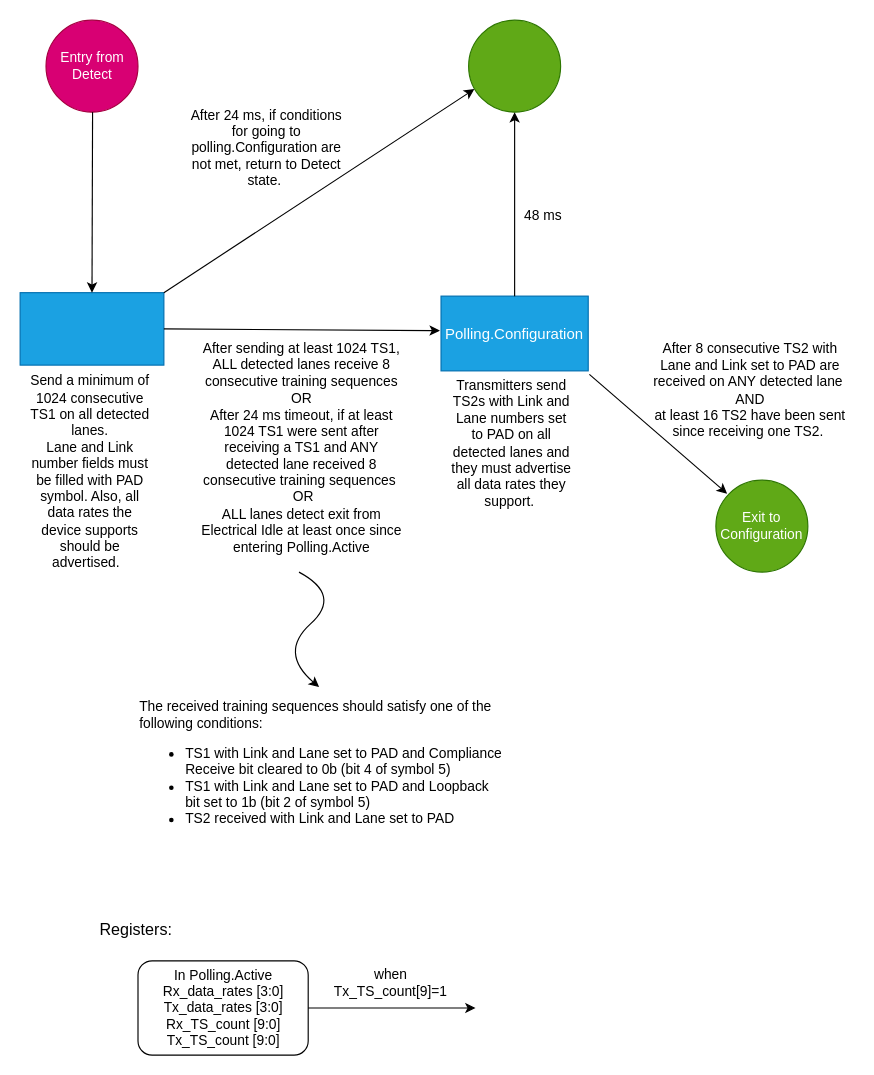
Image size: 874x1075. Some labels were removed from this diagram. Here are the shapes that lost their labels. From the top down, the centre of each, then its label:
pixel 514 65: Exit to Detect
pixel 91 328: Polling.Active
